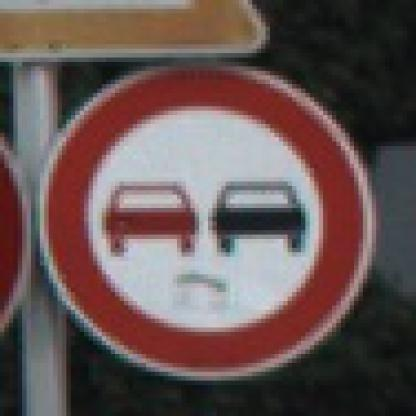No Overtaking: (37, 41, 378, 377)
